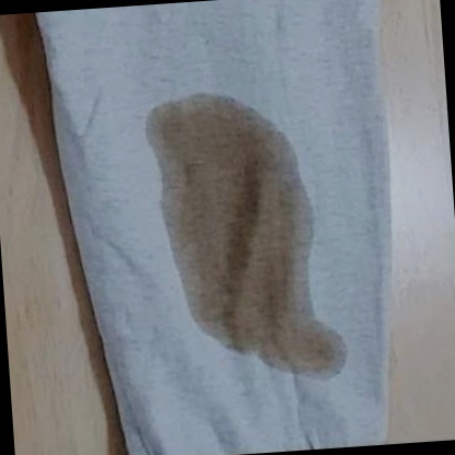coffee: (161, 102, 318, 341)
